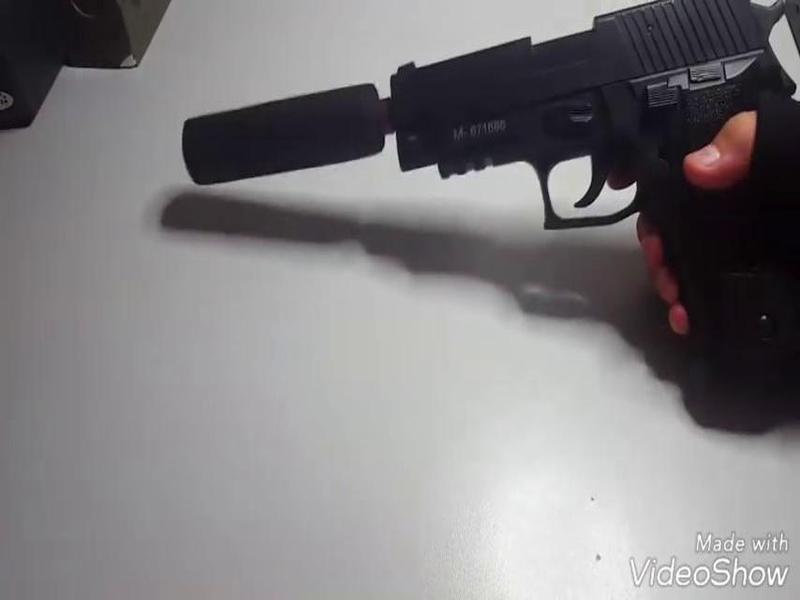Pistola: (390, 2, 800, 393)
